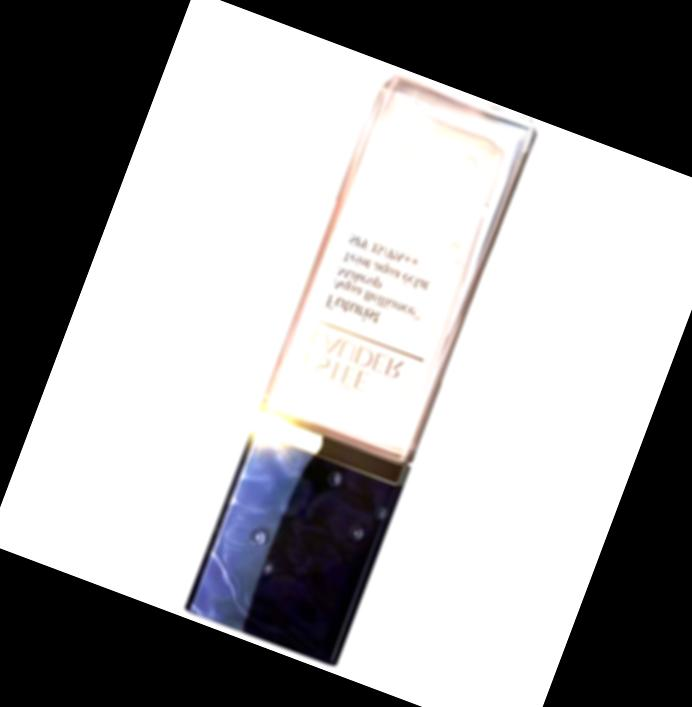cosmetic: (181, 66, 543, 670)
